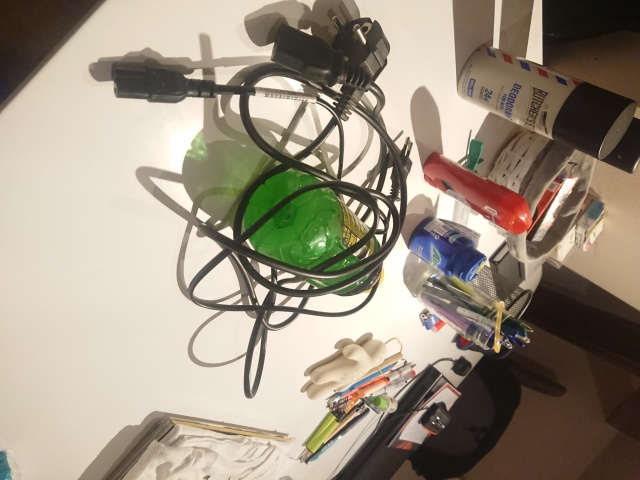Vindi Iso Sport Lemon-Grapefruit 500mL: (240, 168, 386, 299)
